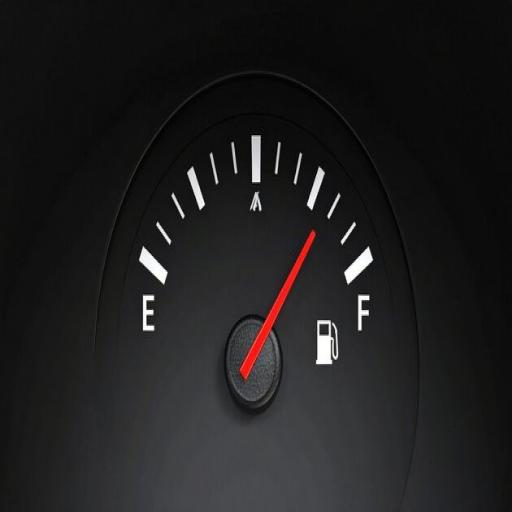empty: (138, 290, 160, 334)
fuel_icon: (312, 308, 341, 382)
full: (356, 287, 376, 338)
guage_area: (63, 71, 449, 512)
needle_center: (224, 304, 286, 416)
needle_tip: (299, 226, 321, 268)
